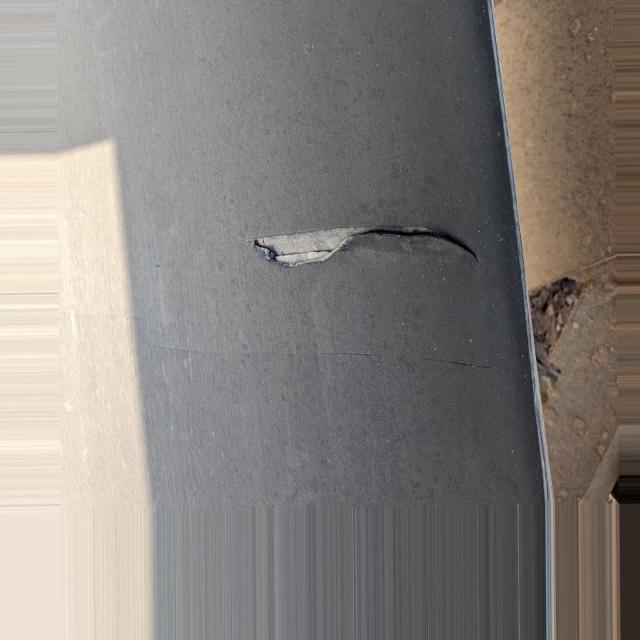Tear: (257, 226, 477, 264)
